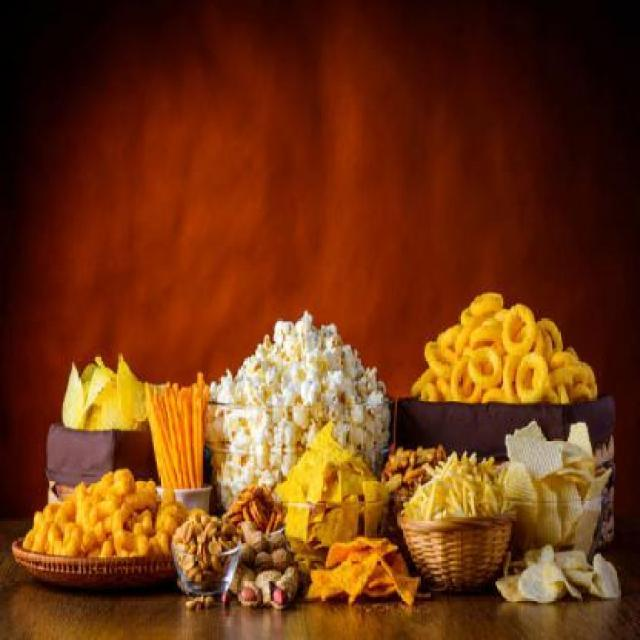Chips packaged: (422, 291, 590, 400), (30, 474, 176, 564), (66, 360, 140, 432), (502, 304, 538, 356)
Merendine: (505, 424, 597, 499)
Popcorn: (213, 307, 379, 410)
